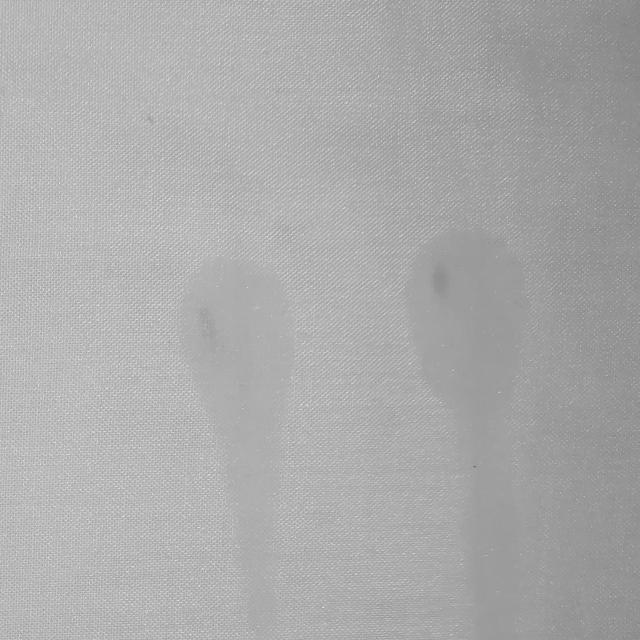Stain: (408, 234, 527, 638), (182, 257, 294, 638)
